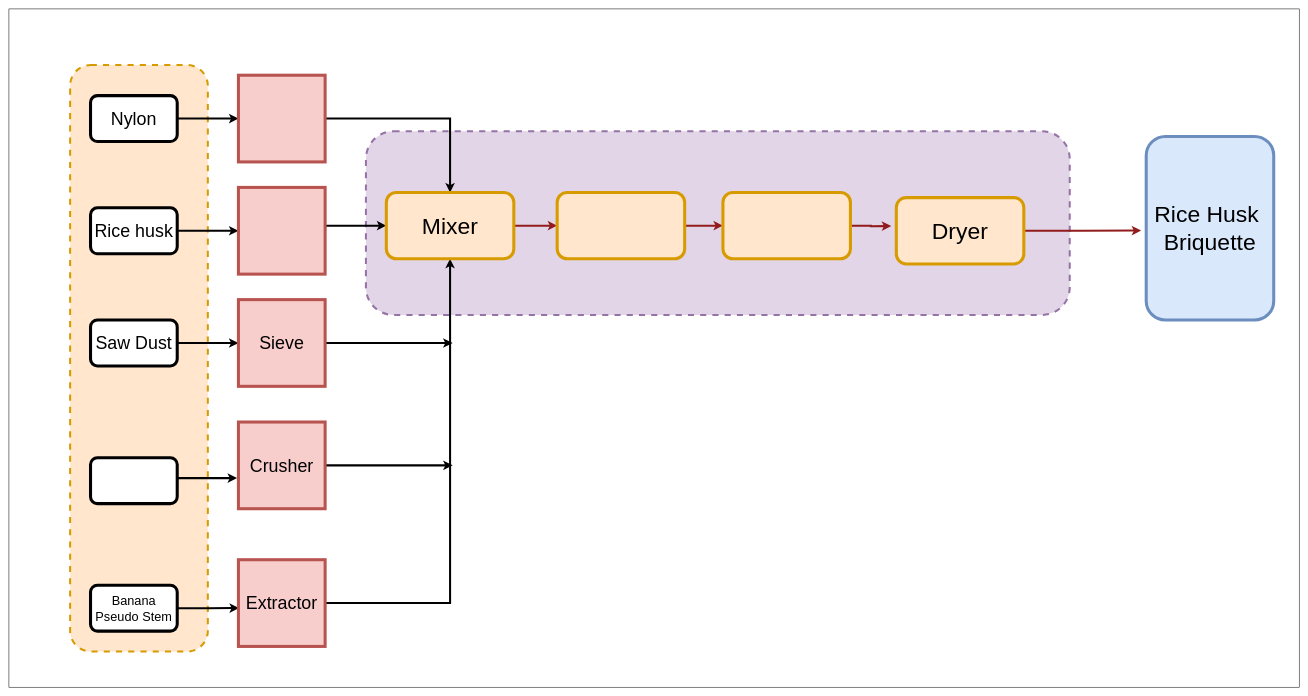
Image size: 1308x696. Some labels were removed from this diagram. The box of each missing label's shape, as (x1, y1, x2, y2) in pixels:
Carbon Rice Husk: (237, 186, 326, 275)
Compactor: (721, 191, 852, 260)
Limestone: (89, 456, 178, 505)
Mould: (555, 191, 686, 260)
Shredded Nylons: (237, 73, 326, 163)
